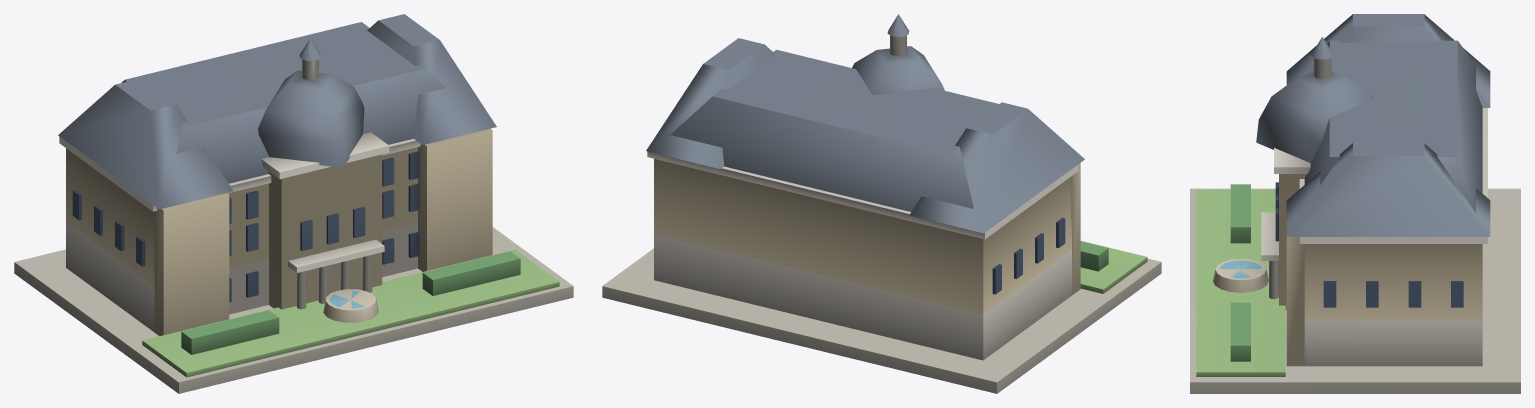
Rendered from craiova.glb.
3 renders of one model, left to right at view 1: azimuth 30°, elevation 25°; view 2: azimuth 150°, elevation 25°; view 3: azimuth 270°, elevation 25°, orthographic.
Visible parts, largest first — view 1: craiova_roofSlate, craiova_cream, craiova_stoneGray, craiova_stoneLight, craiova_grass, craiova_window, craiova_hedge, craiova_stone; view 2: craiova_roofSlate, craiova_cream, craiova_stoneLight, craiova_stoneGray, craiova_grass, craiova_window, craiova_hedge; view 3: craiova_roofSlate, craiova_stoneGray, craiova_cream, craiova_stoneLight, craiova_grass, craiova_hedge, craiova_window, craiova_stone, craiova_water.
Part boxes in pixels (x1,y1,x2,y2): craiova_roofSlate: (58, 14, 496, 209); craiova_cream: (66, 128, 492, 336); craiova_stoneGray: (14, 227, 573, 393); craiova_stoneLight: (59, 59, 420, 332); craiova_grass: (142, 249, 559, 377); craiova_window: (72, 151, 419, 302); craiova_hedge: (181, 251, 520, 354); craiova_stone: (323, 289, 378, 322); craiova_roofSlate: (646, 14, 1084, 233); craiova_cream: (654, 159, 1080, 314); craiova_stoneLight: (647, 35, 1078, 360); craiova_stoneGray: (602, 248, 1161, 393); craiova_grass: (1080, 241, 1147, 293); craiova_window: (992, 217, 1065, 294); craiova_hedge: (1080, 241, 1108, 271); craiova_roofSlate: (1256, 14, 1490, 236); craiova_stoneGray: (1190, 188, 1520, 393); craiova_cream: (1279, 174, 1482, 366); craiova_stoneLight: (1261, 58, 1487, 366); craiova_grass: (1196, 189, 1285, 376); craiova_hedge: (1230, 184, 1250, 361); craiova_window: (1275, 182, 1463, 307); craiova_stone: (1213, 258, 1268, 292); craiova_water: (1219, 260, 1261, 278).
Bounding box in the file's own units: 1.8 × 1.13 × 1.3.
